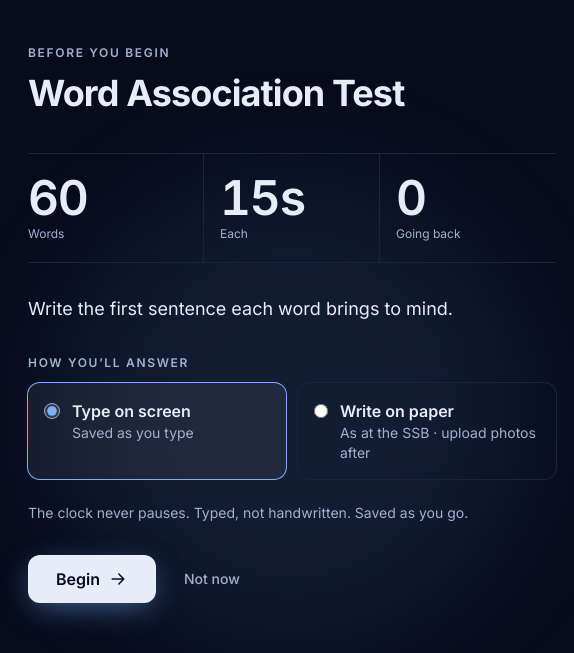
Test: the server is the clock (Sprint 1) › explains a start the server refuses, and stays on the brief
Click the button "Begin": (92, 579) [28, 555, 156, 603]
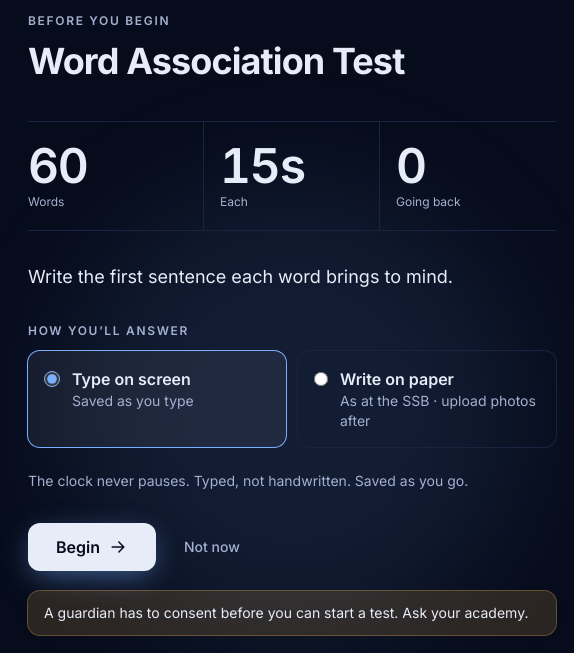
Expected: the button "Begin" is shown, [28, 523, 156, 571]
Expected: the message shows "guardian", [44, 604, 528, 621]
